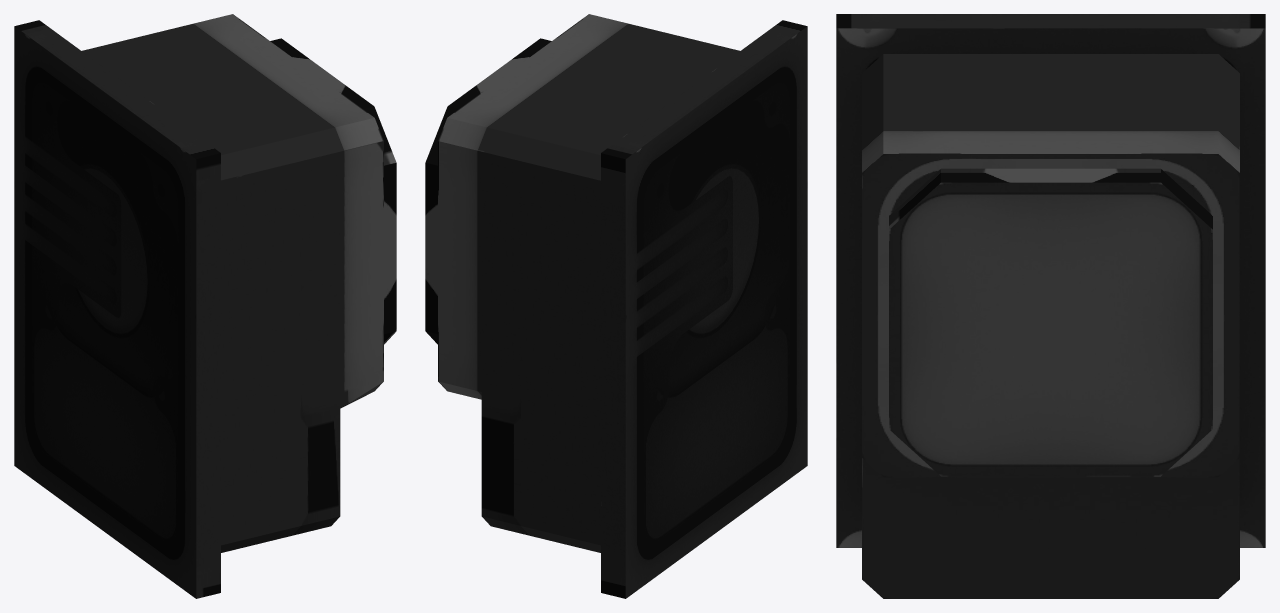
The model's file is wide_angle_camera.dae.
3 views of the same model, side by side, from view 1: azimuth 30°, elevation 25°; view 2: azimuth 150°, elevation 25°; view 3: azimuth 270°, elevation 25° (orthographic). The views are drawn at different scales.
Visible parts, largest first — view 1: Cube; view 2: Cube; view 3: Cube.
Part boxes in pixels (left/top/right/bottom): Cube: left=14, top=14, right=396, bottom=598; Cube: left=425, top=14, right=807, bottom=598; Cube: left=836, top=14, right=1265, bottom=598.
Bounding box in the file's own units: 0.0281 × 0.0398 × 0.0531.
1 material, 1 textured.
